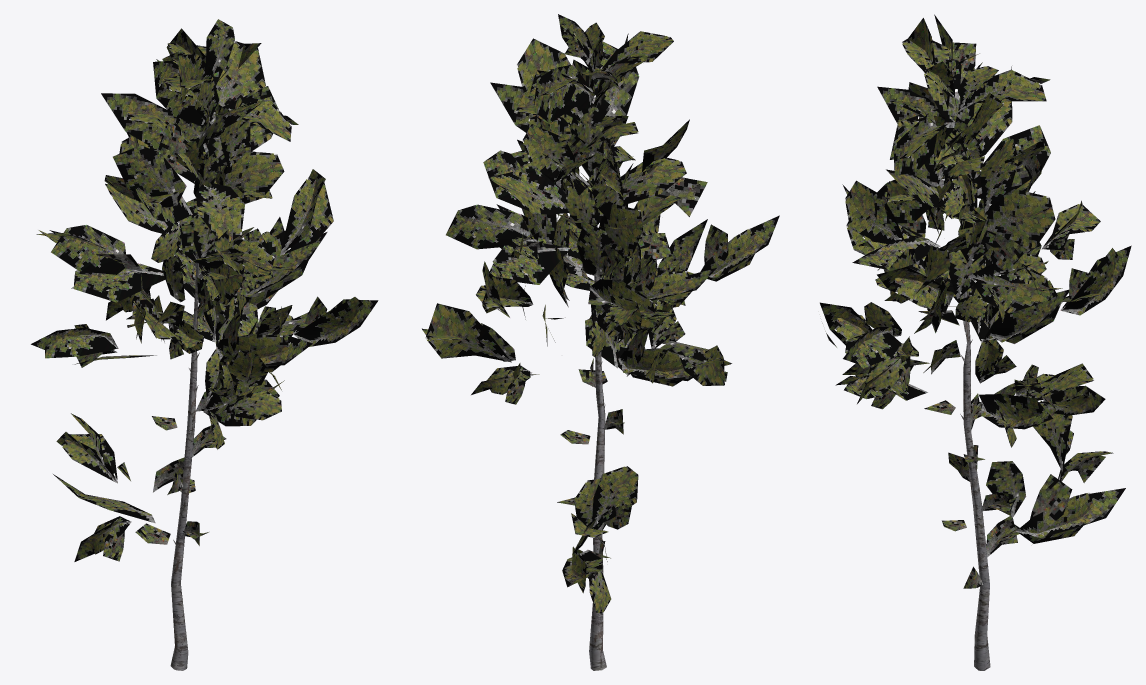
File: temperate-birch-big-close.glb
3 views of the same model, side by side, from view 1: azimuth 30°, elevation 25°; view 2: azimuth 150°, elevation 25°; view 3: azimuth 270°, elevation 25° (orthographic).
Parts seen in each view (by area): view 1: birch_big_LOD0; view 2: birch_big_LOD0; view 3: birch_big_LOD0.
Part boxes in pixels (x1,y1,x2,y2): birch_big_LOD0: (31, 19, 378, 670); birch_big_LOD0: (422, 14, 779, 670); birch_big_LOD0: (820, 14, 1131, 670).
Bounding box in the file's own units: 11.35 × 25.21 × 11.55.
Materials: 1 (1 with a texture image).
